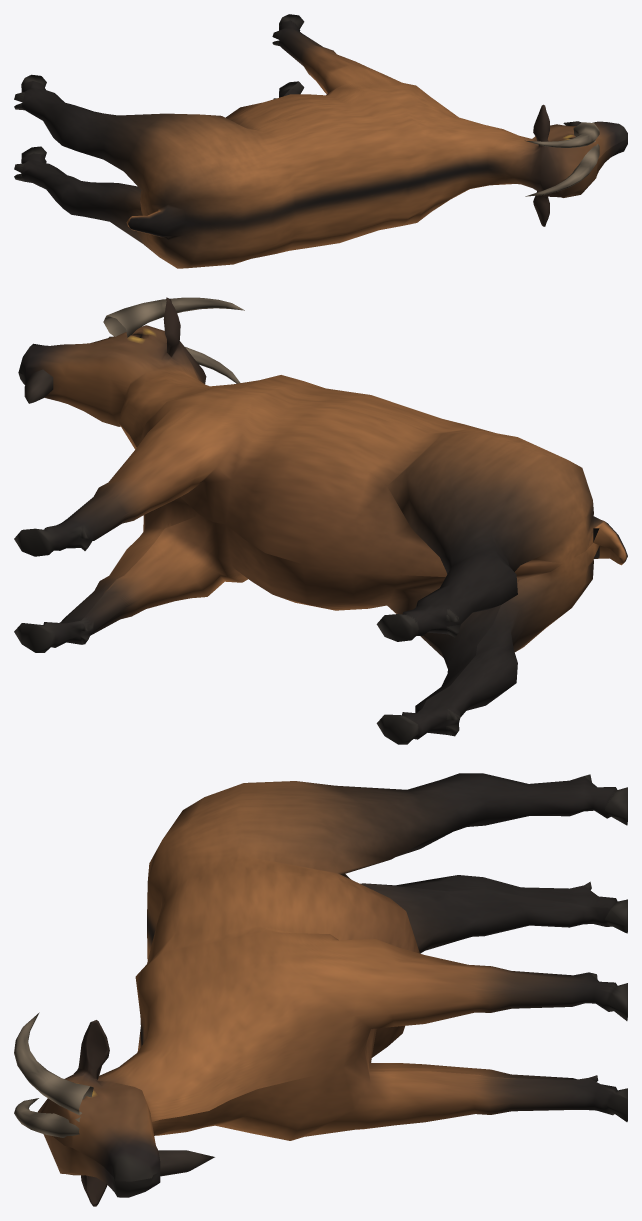
File: goat_doe.obj
The picture shows the model from 3 angles, top to bottom: view 1: azimuth 30°, elevation 25°; view 2: azimuth 150°, elevation 25°; view 3: azimuth 270°, elevation 25°; orthographic projection. The views are drawn at different scales.
Visible parts, largest first — view 1: goat_doe; view 2: goat_doe; view 3: goat_doe.
Part boxes in pixels (x1,y1,x2,y2): goat_doe: (14, 14, 627, 268); goat_doe: (14, 297, 627, 744); goat_doe: (14, 773, 627, 1206).
Bounding box in the file's own units: 1.22 × 0.3266 × 0.9123.
1 material, 1 textured.
